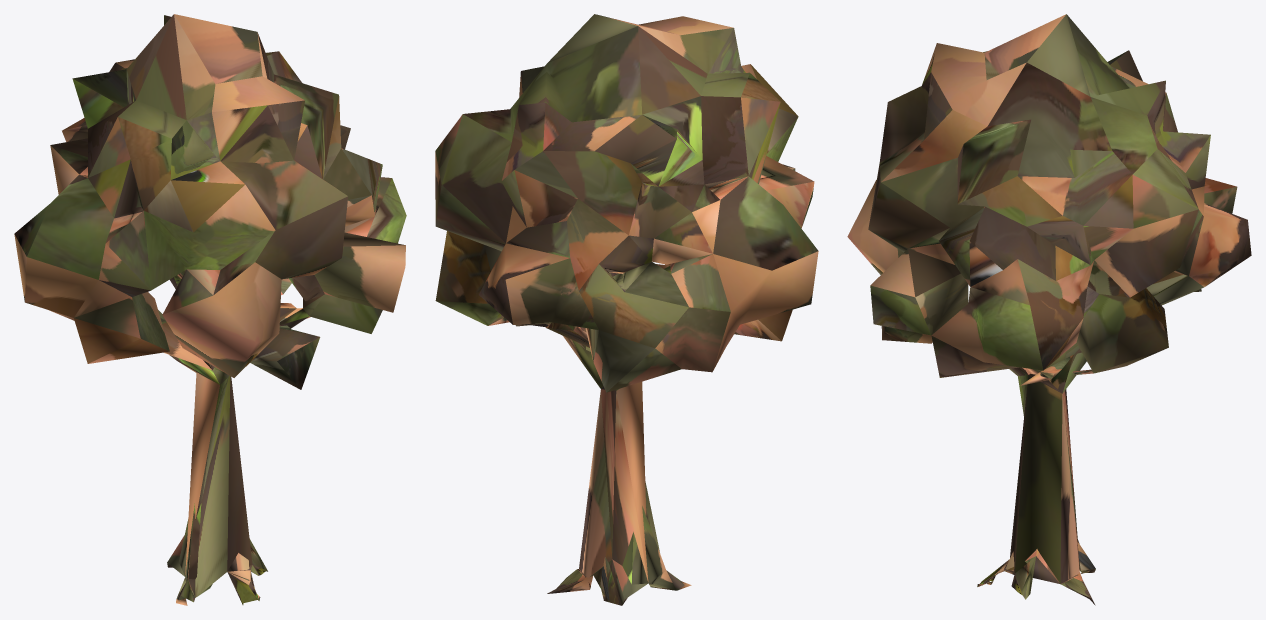
The model's file is TreeCollider.fbx.
The picture shows the model from 3 angles, left to right: view 1: azimuth 30°, elevation 25°; view 2: azimuth 150°, elevation 25°; view 3: azimuth 270°, elevation 25°; orthographic projection. The views are drawn at different scales.
Visible parts, largest first — view 1: input; view 2: input; view 3: input.
Part boxes in pixels (<box>): input: <box>14,14,406,605</box>; input: <box>435,14,818,605</box>; input: <box>847,14,1251,605</box>.
Size of the model in its own units: 134 by 201 by 132.
